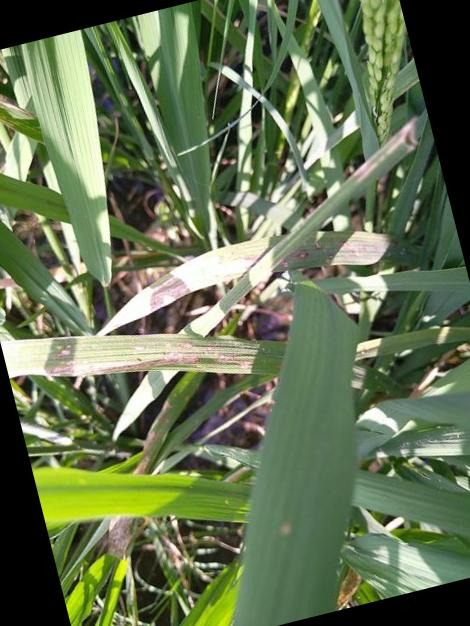Leaf Streak: (110, 239, 269, 326), (0, 334, 287, 380), (130, 401, 174, 476), (331, 231, 417, 267), (103, 516, 156, 560)
